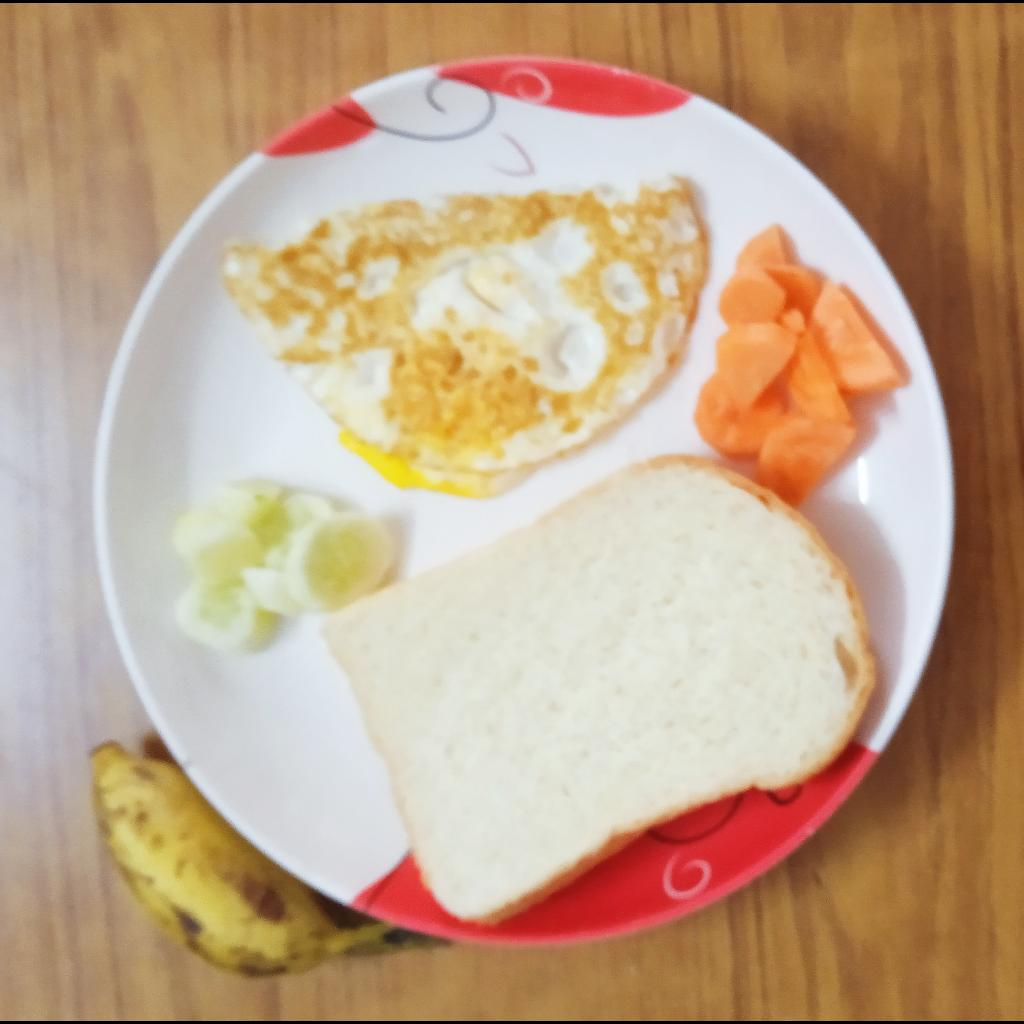banana: (91, 743, 449, 977)
bread: (308, 458, 882, 934)
carrot: (694, 227, 907, 506)
cucumber: (175, 482, 401, 655)
egg-poached: (219, 178, 711, 501)
